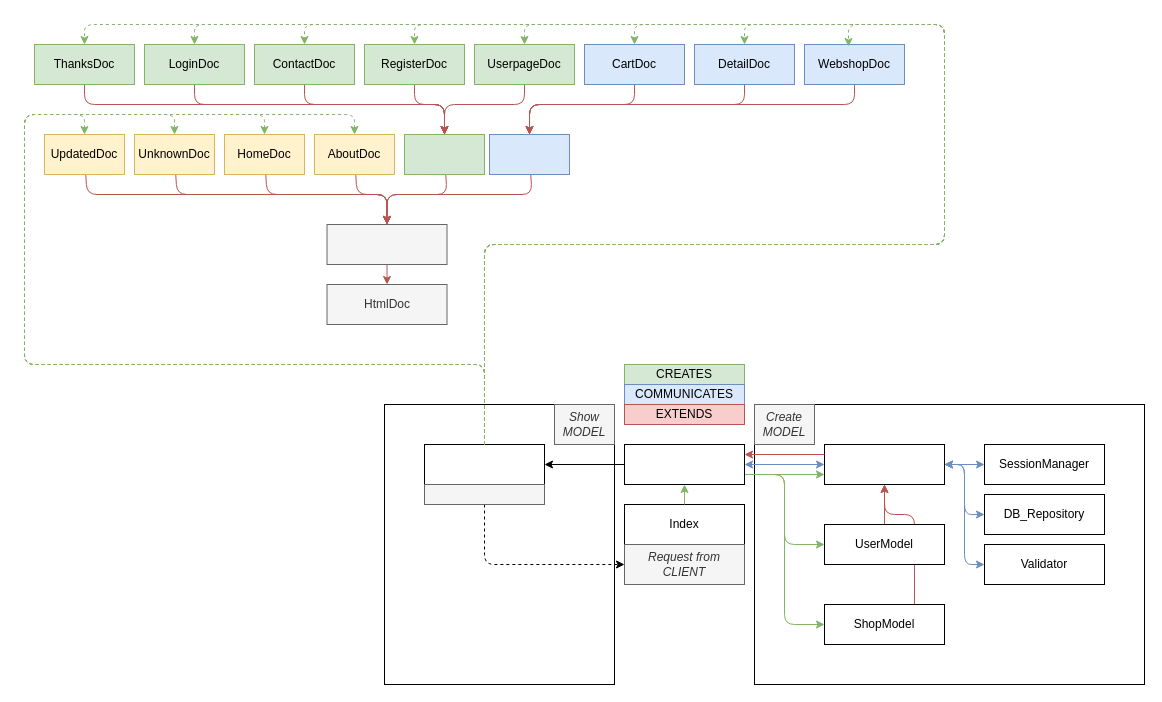
Some shapes in this 1162 by 702 pixel diagram are drawn without their labels. The shapes that lost their labels are listed below. From the top down, each one's centre as x and y in pixels, then its label:
the point at 444,154: FormDoc
the point at 529,154: ProductDoc
the point at 386,244: BasicDoc
the point at 484,464: PageView
the point at 684,464: PageController
the point at 884,464: PageModel
the point at 484,494: ####Doc
